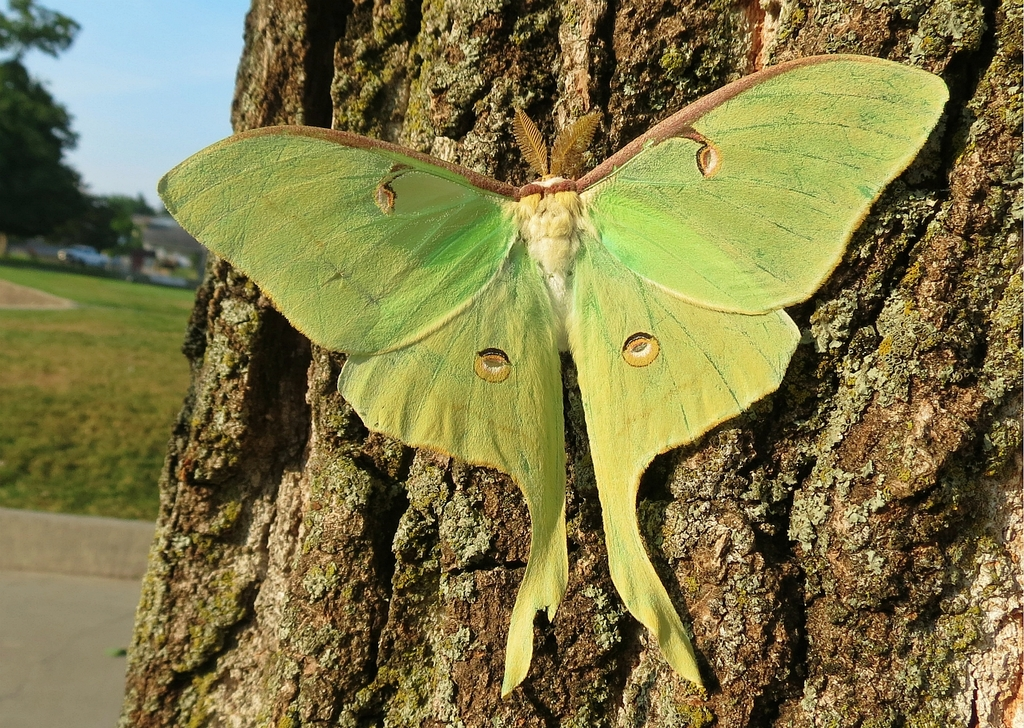Butterfly: (143, 59, 918, 692)
